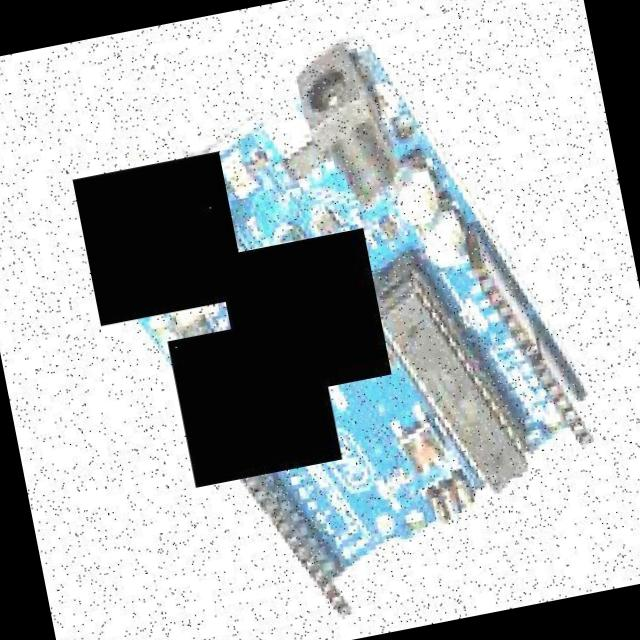arduino: (57, 22, 627, 640)
